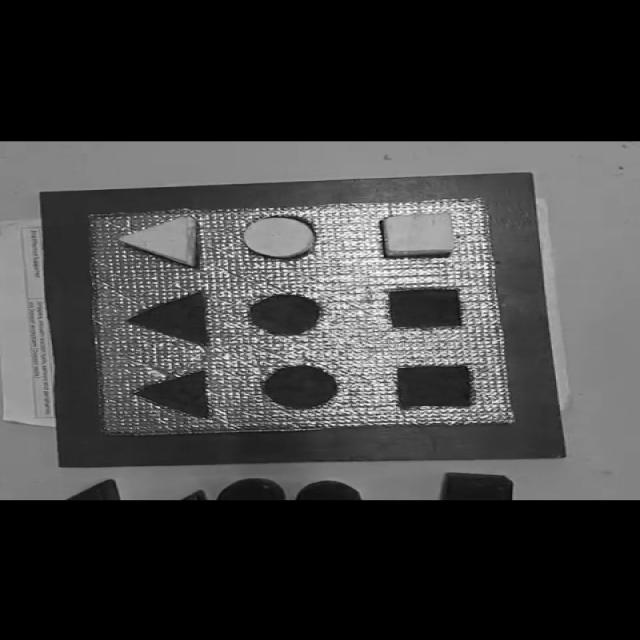bcircle: (296, 480, 362, 499)
bcube: (441, 472, 515, 499)
mtcircle: (261, 363, 340, 410), (247, 294, 323, 336)
mtcube: (393, 362, 479, 410), (385, 287, 468, 329)
mttriangle: (127, 289, 213, 348), (132, 368, 213, 418)
wb: (85, 195, 514, 434)
ycircle: (242, 215, 318, 259)
ycube: (380, 211, 456, 258)
ytriangle: (115, 214, 199, 268)
